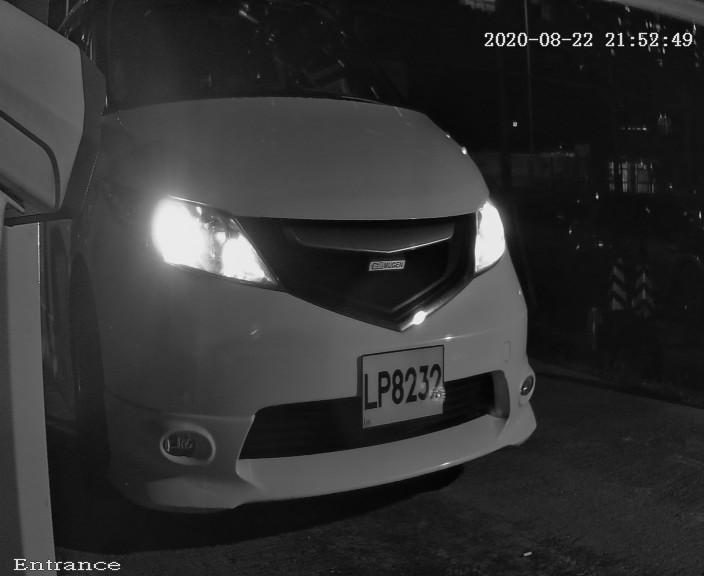Car: (13, 1, 566, 571)
License Plate: (320, 315, 490, 453)
